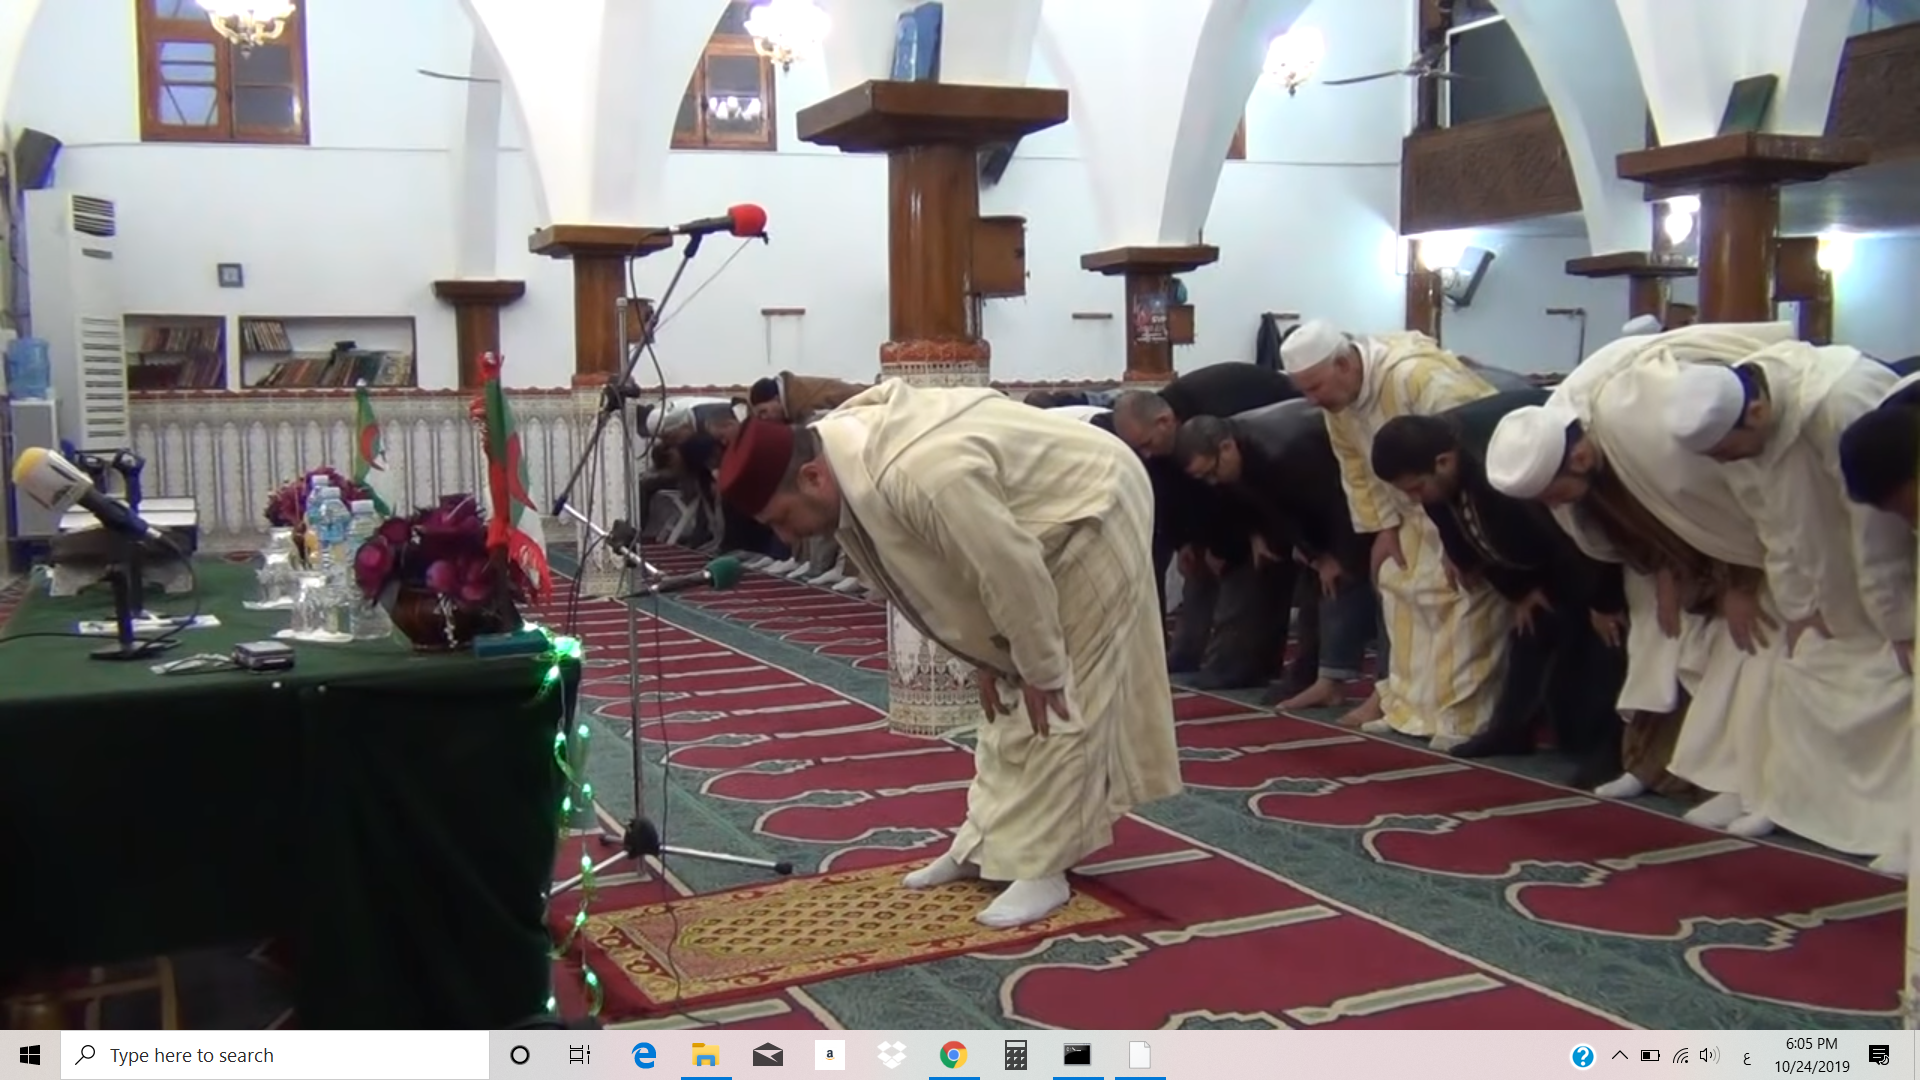ruku: (708, 375, 1262, 965)
